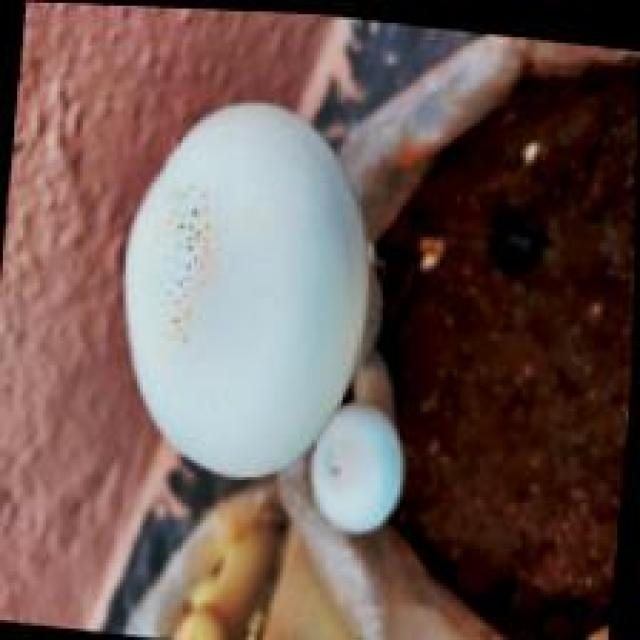death-cap: (120, 97, 374, 480)
